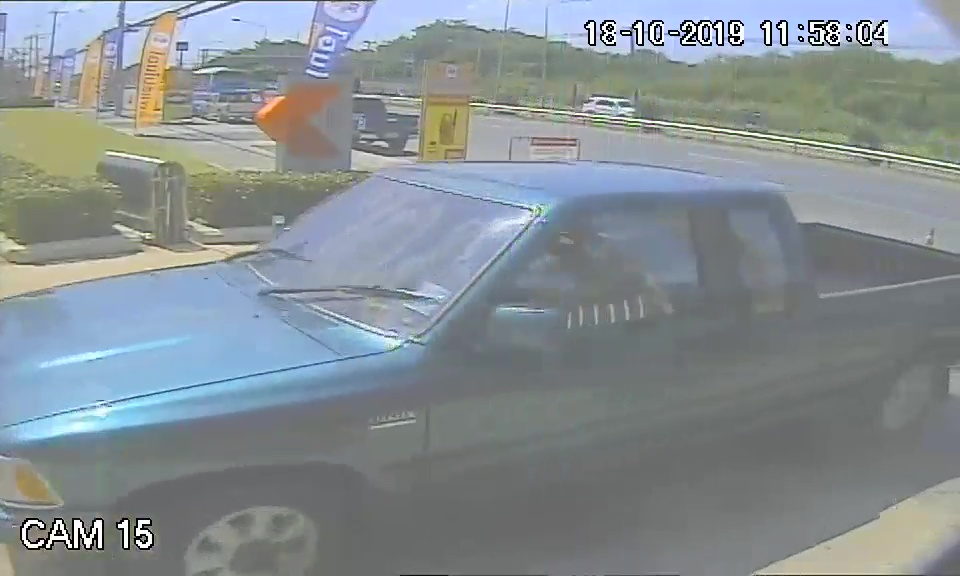pickup: (8, 161, 960, 568)
